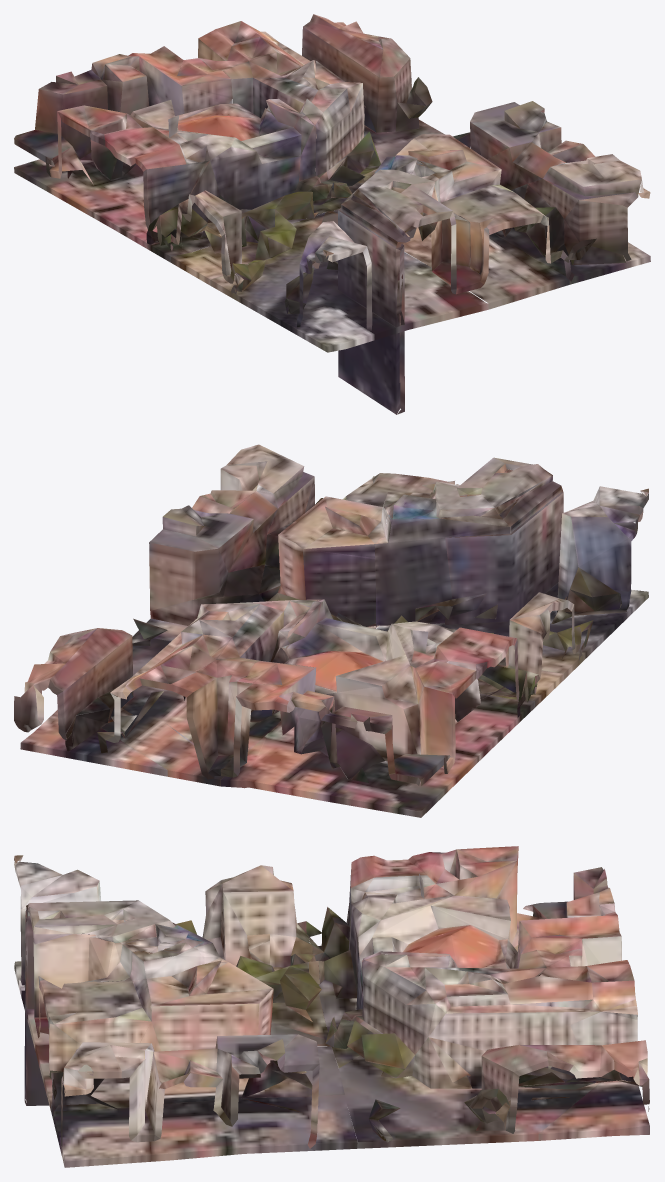
3 renders of one model, top to bottom at view 1: azimuth 30°, elevation 25°; view 2: azimuth 150°, elevation 25°; view 3: azimuth 270°, elevation 25°, orthographic. The views are drawn at different scales.
Parts seen in each view (by area): view 1: Mesh_0; view 2: Mesh_0; view 3: Mesh_0.
Part boxes in pixels (left/top/right/bottom): Mesh_0: left=14, top=14, right=650, bottom=414; Mesh_0: left=14, top=444, right=648, bottom=817; Mesh_0: left=14, top=846, right=649, bottom=1167.
Bounding box in the file's own units: 133 × 60.63 × 165.
Materials: 1 (1 with a texture image).
